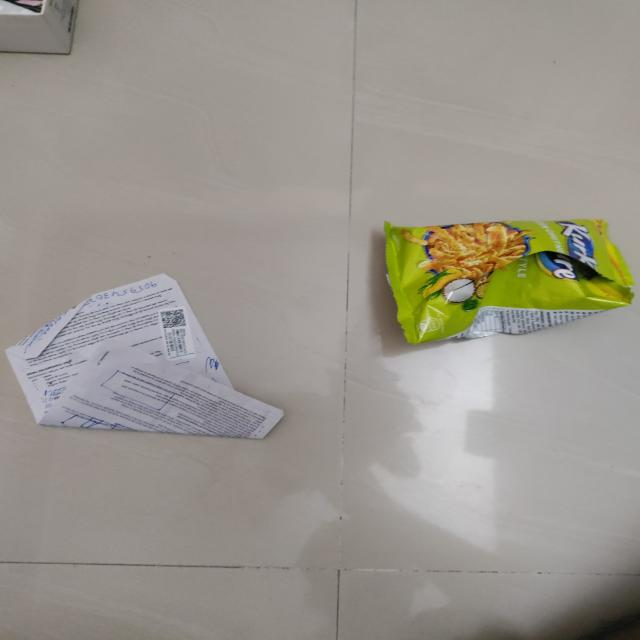paper: (0, 261, 305, 468)
plastic: (361, 181, 640, 354)
